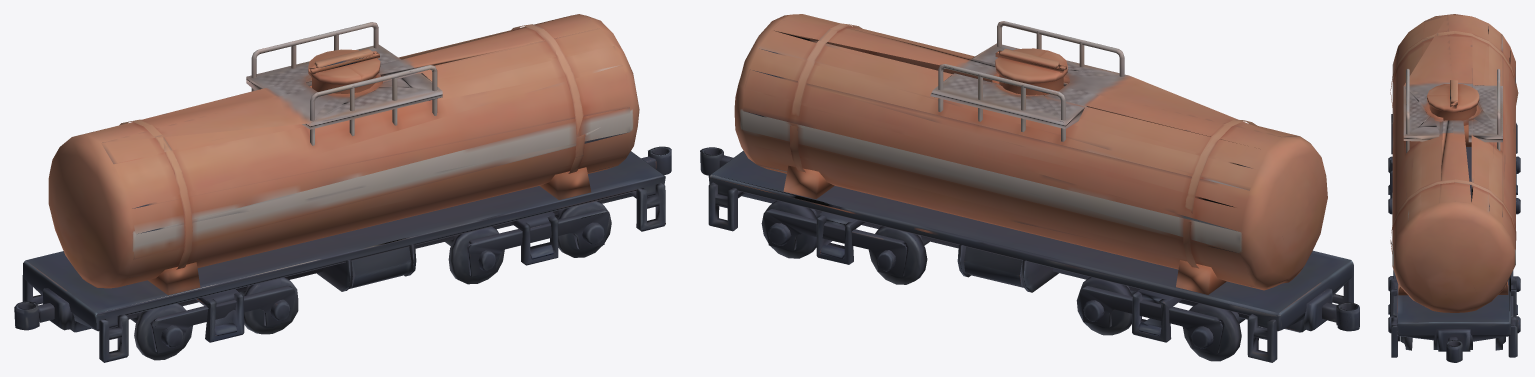
Rendered from train_wagon_tank.glb.
The picture shows the model from 3 angles, left to right: view 1: azimuth 30°, elevation 25°; view 2: azimuth 150°, elevation 25°; view 3: azimuth 270°, elevation 25°; orthographic projection. The views are drawn at different scales.
Parts seen in each view (by area): view 1: geometry_0; view 2: geometry_0; view 3: geometry_0.
Boxes of the visible parts, box(x1,y1,x2,y2) form: geometry_0: box(14, 14, 671, 362); geometry_0: box(700, 14, 1359, 362); geometry_0: box(1388, 14, 1520, 362).
Bounding box in the file's own units: 0.9575 × 0.3218 × 0.2153.
Materials: 1 (1 with a texture image).
